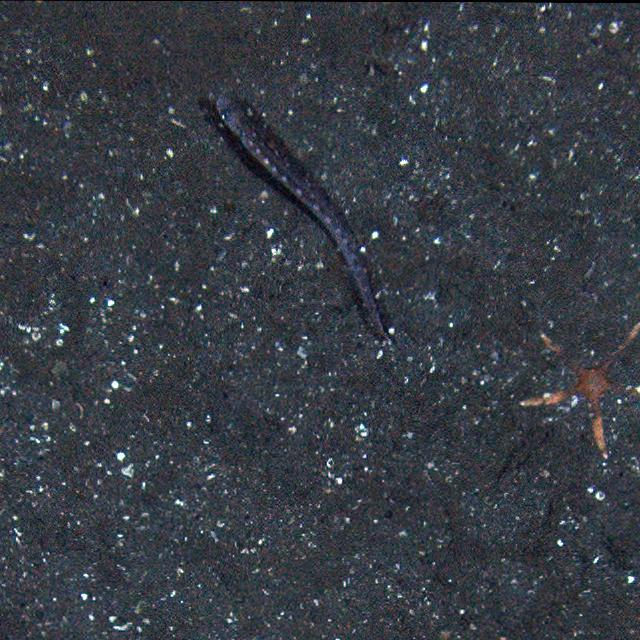roundfish: (211, 84, 393, 349)
